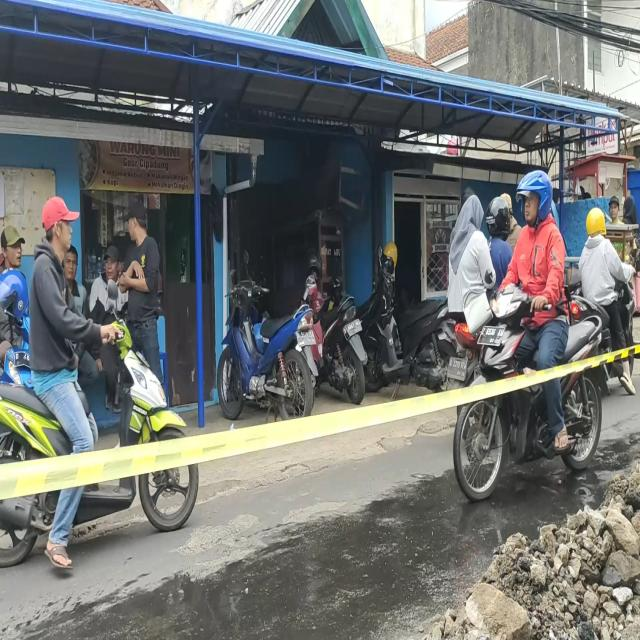helmet: (521, 174, 553, 223), (488, 196, 514, 234), (584, 208, 606, 240)
no-helmet: (42, 200, 72, 255), (459, 190, 482, 228)
